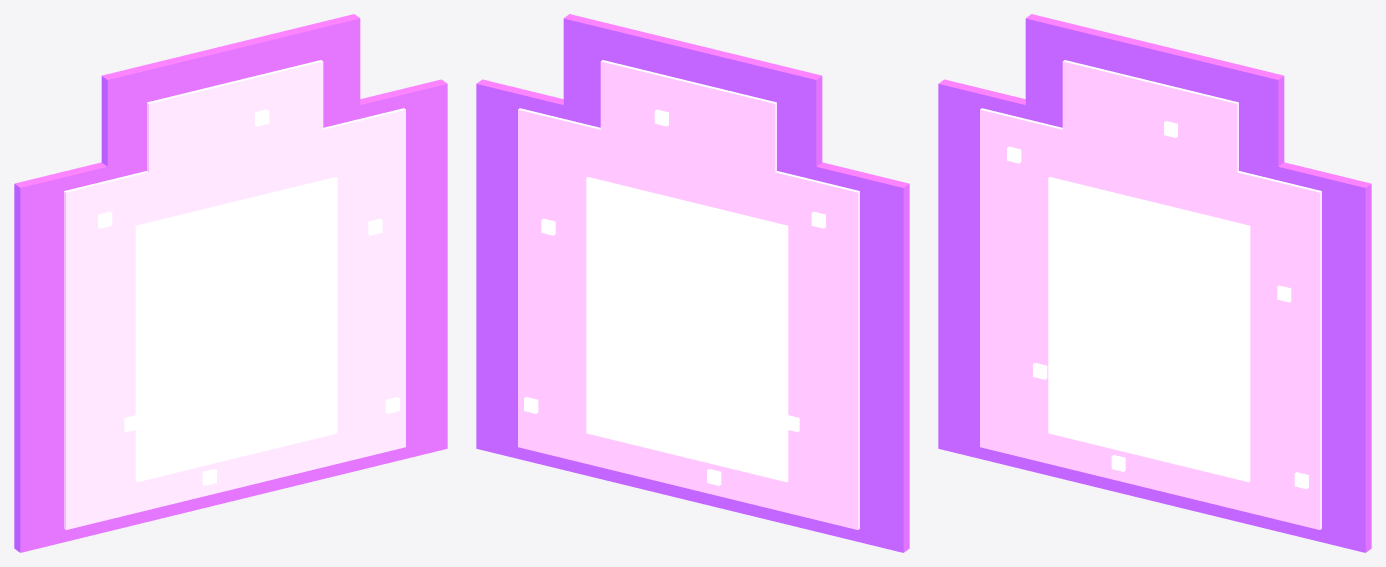
The model's file is th-portal-violet.glb.
3 renders of one model, left to right at view 1: azimuth 30°, elevation 25°; view 2: azimuth 150°, elevation 25°; view 3: azimuth 330°, elevation 25°, orthographic.
Parts seen in each view (by area): view 1: box-prop; view 2: box-prop; view 3: box-prop.
Part boxes in pixels (left/top/right/bottom): box-prop: left=14, top=14, right=447, bottom=552; box-prop: left=476, top=14, right=909, bottom=552; box-prop: left=938, top=14, right=1371, bottom=552.
Size of the model in its own units: 4.9 by 4.95 by 0.34.
